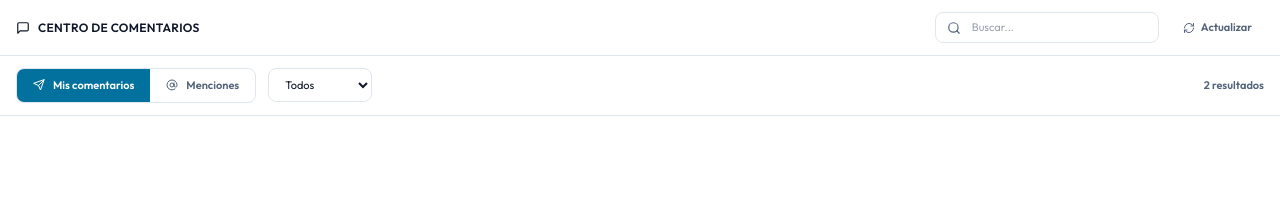
it: CommentAdminPage › switches to the mentions tab and fetches mentions
Click the tab "Menciones" at (203, 85), box [150,69,255,102]
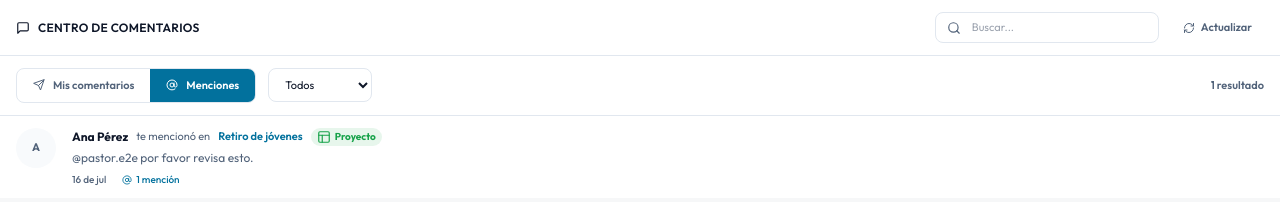
Expected: the text "@pastor.e2e por favor revisa esto." is shown, [72,150,254,164]
Expected: the text "Ana Pérez" is shown, [72,128,128,146]
